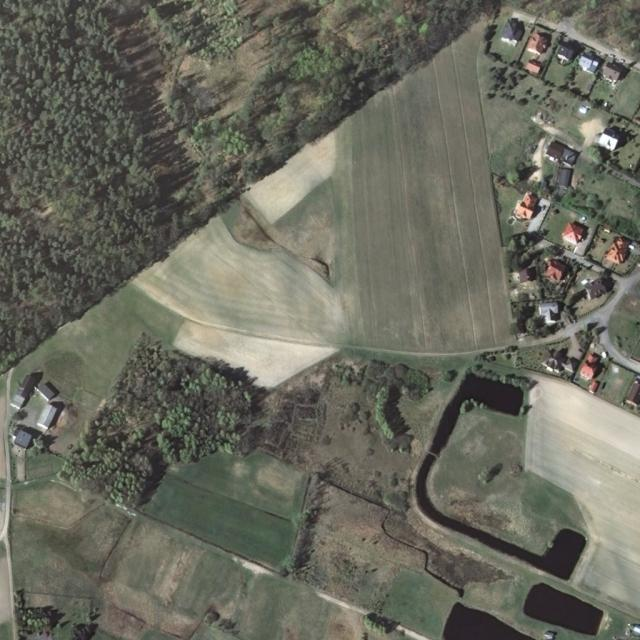agricultural_land: (311, 24, 514, 364), (128, 187, 364, 426), (416, 392, 618, 569), (4, 261, 190, 443), (270, 474, 441, 626), (142, 467, 303, 572), (265, 168, 381, 284), (242, 124, 354, 226), (243, 124, 354, 226), (217, 199, 280, 266)
building: (57, 317, 136, 333), (511, 188, 543, 224), (499, 16, 528, 48)
greenland: (0, 0, 498, 370), (56, 317, 272, 547)
wetland: (401, 363, 633, 582), (416, 392, 621, 571), (390, 337, 487, 451), (430, 360, 529, 437), (12, 515, 64, 593), (536, 522, 592, 583), (430, 433, 447, 453)
